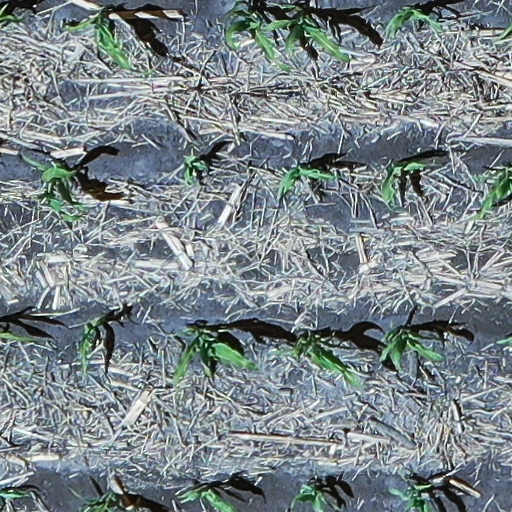planta: (172, 327, 258, 384), (22, 154, 85, 224), (286, 336, 362, 388), (66, 13, 132, 70), (224, 9, 292, 59), (283, 17, 349, 63), (381, 329, 441, 370), (381, 160, 426, 203), (277, 165, 339, 194), (387, 6, 441, 34), (77, 319, 100, 382), (182, 154, 205, 184)
